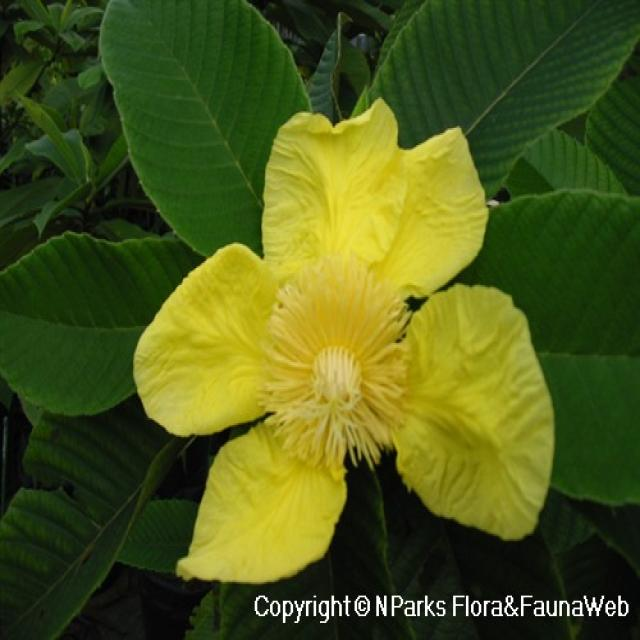Simpoh-Lak: (113, 78, 559, 582)
